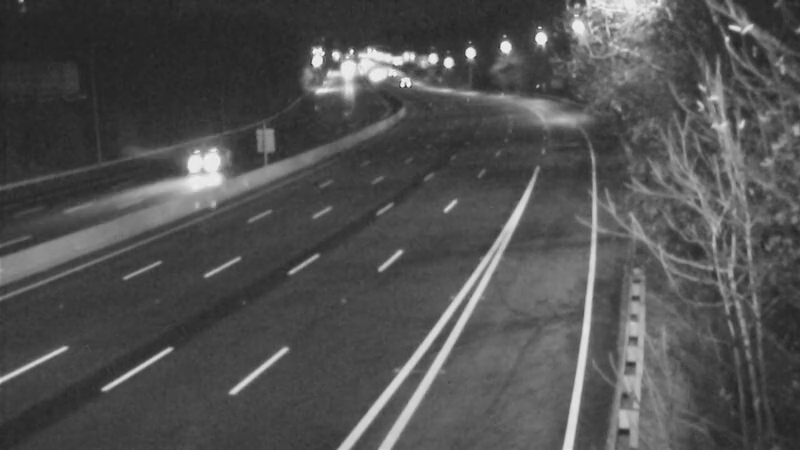vehicle: (165, 124, 245, 204), (375, 56, 425, 106), (345, 51, 395, 101)
